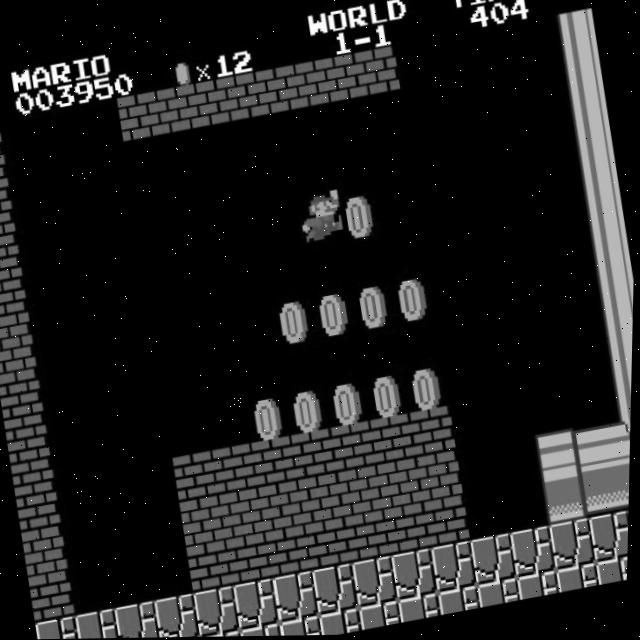1- brick_block: (220, 488, 269, 541), (227, 533, 276, 586), (234, 69, 283, 122), (299, 473, 348, 526), (306, 518, 355, 571), (385, 503, 434, 556), (418, 451, 467, 504), (116, 92, 165, 144), (180, 496, 229, 548), (188, 541, 237, 593), (195, 77, 244, 129), (252, 436, 301, 488), (259, 481, 308, 533), (266, 526, 315, 578), (274, 62, 323, 114), (331, 421, 380, 473), (338, 466, 387, 518), (346, 511, 395, 563), (371, 414, 420, 466), (378, 459, 427, 511), (353, 47, 402, 99), (424, 496, 473, 548), (30, 569, 78, 622), (156, 84, 204, 137), (314, 54, 362, 107), (173, 451, 222, 502), (213, 444, 262, 495), (410, 407, 459, 458), (1, 390, 49, 442), (8, 435, 56, 487), (16, 480, 64, 532), (292, 429, 340, 481), (22, 526, 70, 577), (0, 345, 42, 397), (0, 301, 35, 353), (0, 255, 28, 307), (0, 211, 20, 262), (0, 166, 13, 217)
11- little_mario: (294, 187, 346, 244)
14- pipe: (571, 144, 620, 197), (579, 189, 628, 242), (576, 422, 625, 474), (582, 467, 631, 519), (550, 10, 599, 62), (557, 55, 606, 106), (564, 100, 613, 151), (586, 235, 635, 286), (593, 279, 635, 331), (600, 324, 634, 376), (607, 370, 633, 421), (614, 415, 633, 466), (621, 459, 632, 511)
15- pipe_head: (536, 429, 585, 482), (543, 474, 592, 527)
17- undestructible_block: (195, 585, 244, 638), (234, 578, 283, 631), (353, 556, 402, 609), (511, 526, 560, 579), (313, 564, 362, 616), (392, 549, 441, 601), (471, 534, 520, 586), (550, 519, 599, 571), (432, 541, 480, 594), (274, 571, 322, 623), (155, 593, 204, 638), (589, 512, 631, 564), (116, 600, 164, 639), (76, 607, 124, 639), (400, 593, 444, 624), (479, 578, 523, 609), (558, 563, 602, 594), (360, 601, 405, 631), (439, 586, 484, 616), (518, 571, 563, 601), (321, 608, 365, 636), (37, 615, 84, 639), (597, 556, 630, 586), (281, 615, 325, 637), (242, 623, 286, 637), (202, 630, 246, 638)
2- coin: (245, 391, 294, 444), (324, 376, 373, 429), (389, 271, 438, 324), (403, 361, 452, 414), (270, 294, 319, 346), (284, 384, 333, 436), (335, 189, 384, 241), (349, 279, 398, 331), (310, 286, 358, 339), (364, 369, 412, 421)
